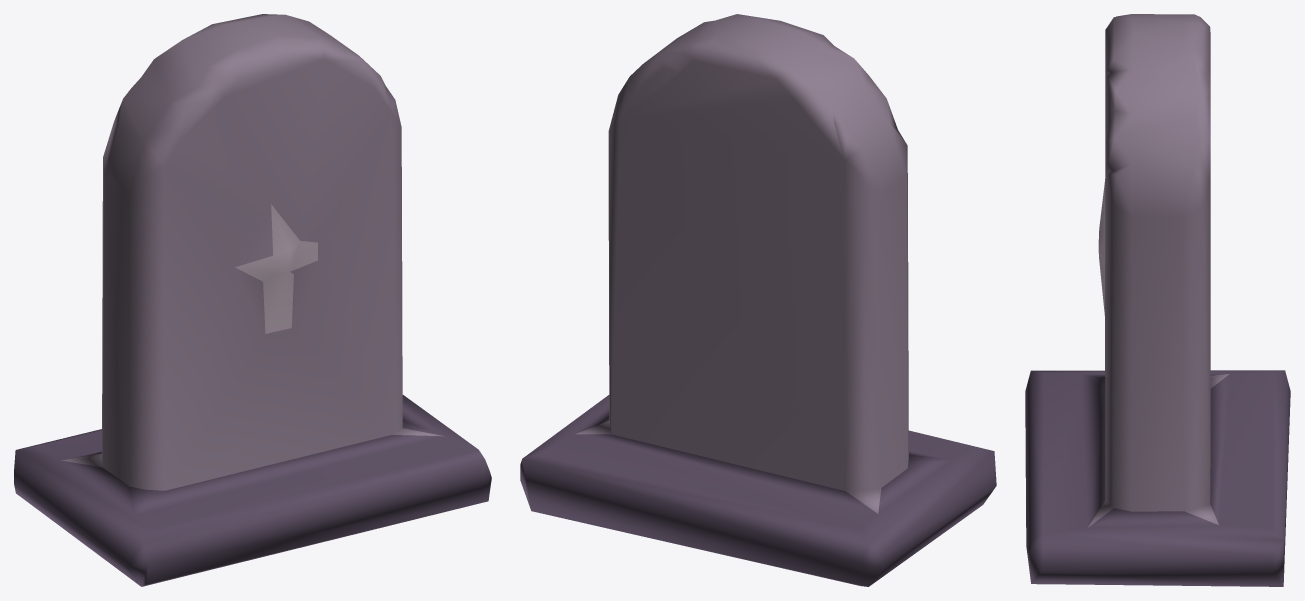
File: grave_a.glb
The picture shows the model from 3 angles, left to right: view 1: azimuth 30°, elevation 25°; view 2: azimuth 150°, elevation 25°; view 3: azimuth 270°, elevation 25°; orthographic projection.
Parts seen in each view (by area): view 1: grave_a; view 2: grave_a; view 3: grave_a.
Boxes of the visible parts, left/top/right/bottom form: grave_a: left=14, top=14, right=491, bottom=586; grave_a: left=520, top=14, right=996, bottom=586; grave_a: left=1025, top=14, right=1290, bottom=586.
Size of the model in its own units: 0.9612 by 1.2 by 0.6047.
